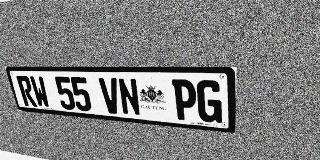5: (70, 77, 93, 112), (54, 77, 77, 110)
G: (196, 80, 222, 123)
N: (117, 78, 141, 116)
P: (172, 79, 197, 121)
R: (16, 76, 37, 107)
V: (98, 78, 122, 114)
W: (29, 76, 51, 108)
